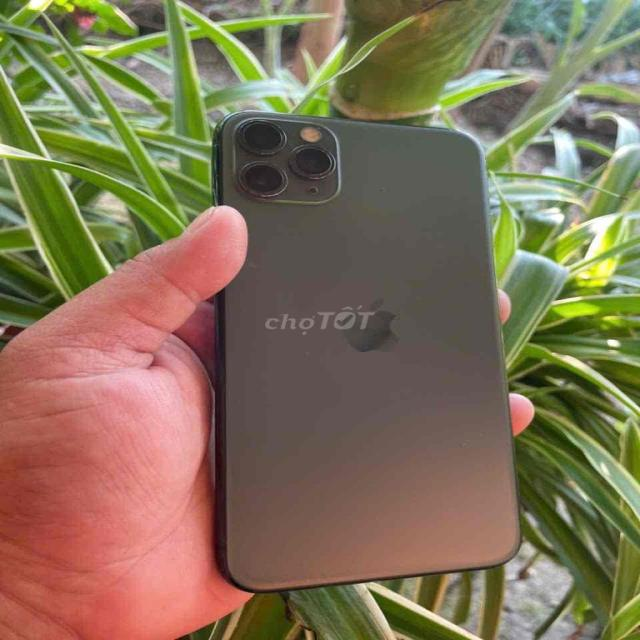gen_11: (216, 112, 519, 592)
